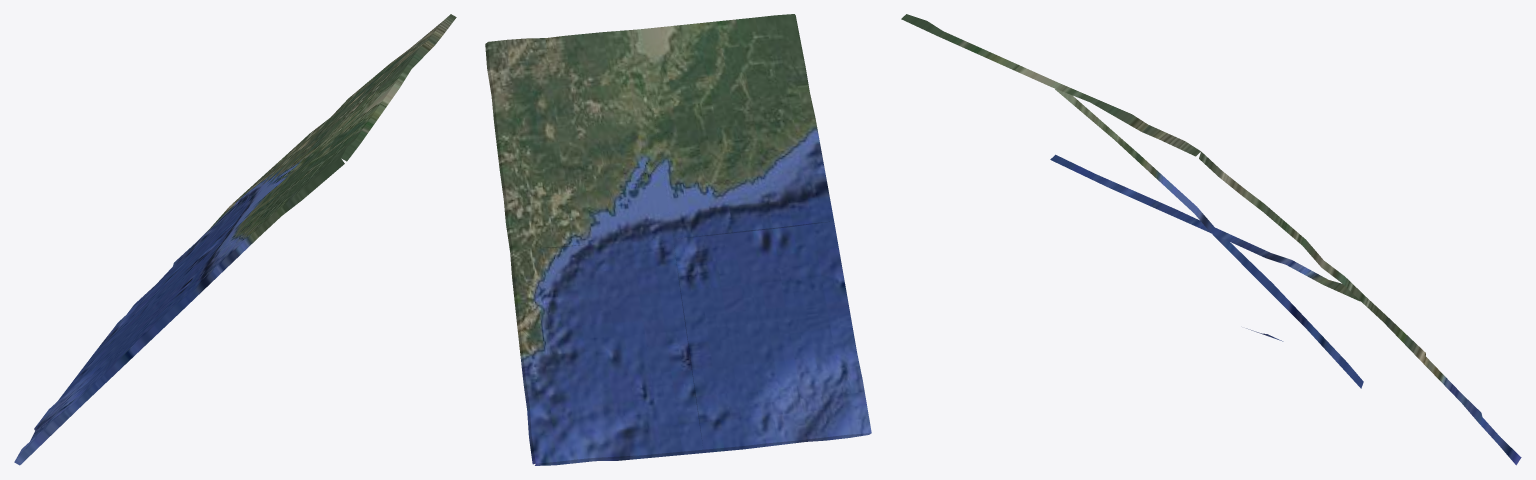
3 renders of one model, left to right at view 1: azimuth 30°, elevation 25°; view 2: azimuth 150°, elevation 25°; view 3: azimuth 270°, elevation 25°, orthographic. The views are drawn at different scales.
Bounding box in the file's own units: 632510 × 475395 × 629470.
Materials: 1 (1 with a texture image).
